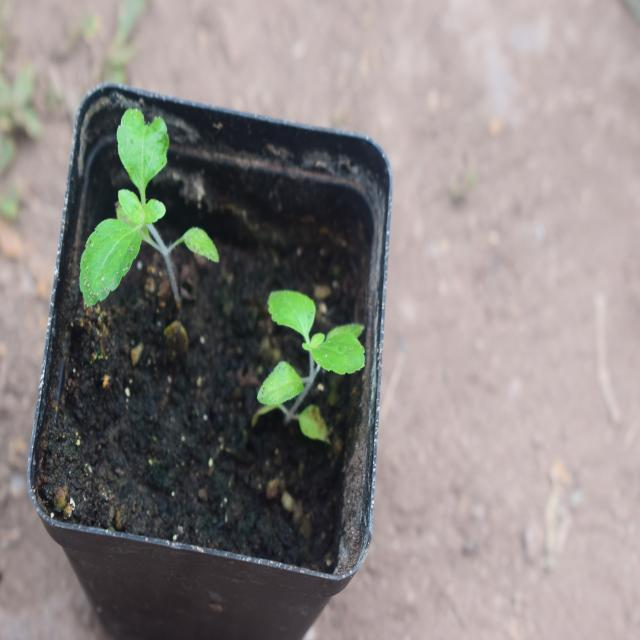billygoat_weed: (68, 108, 209, 296), (264, 269, 374, 429)
